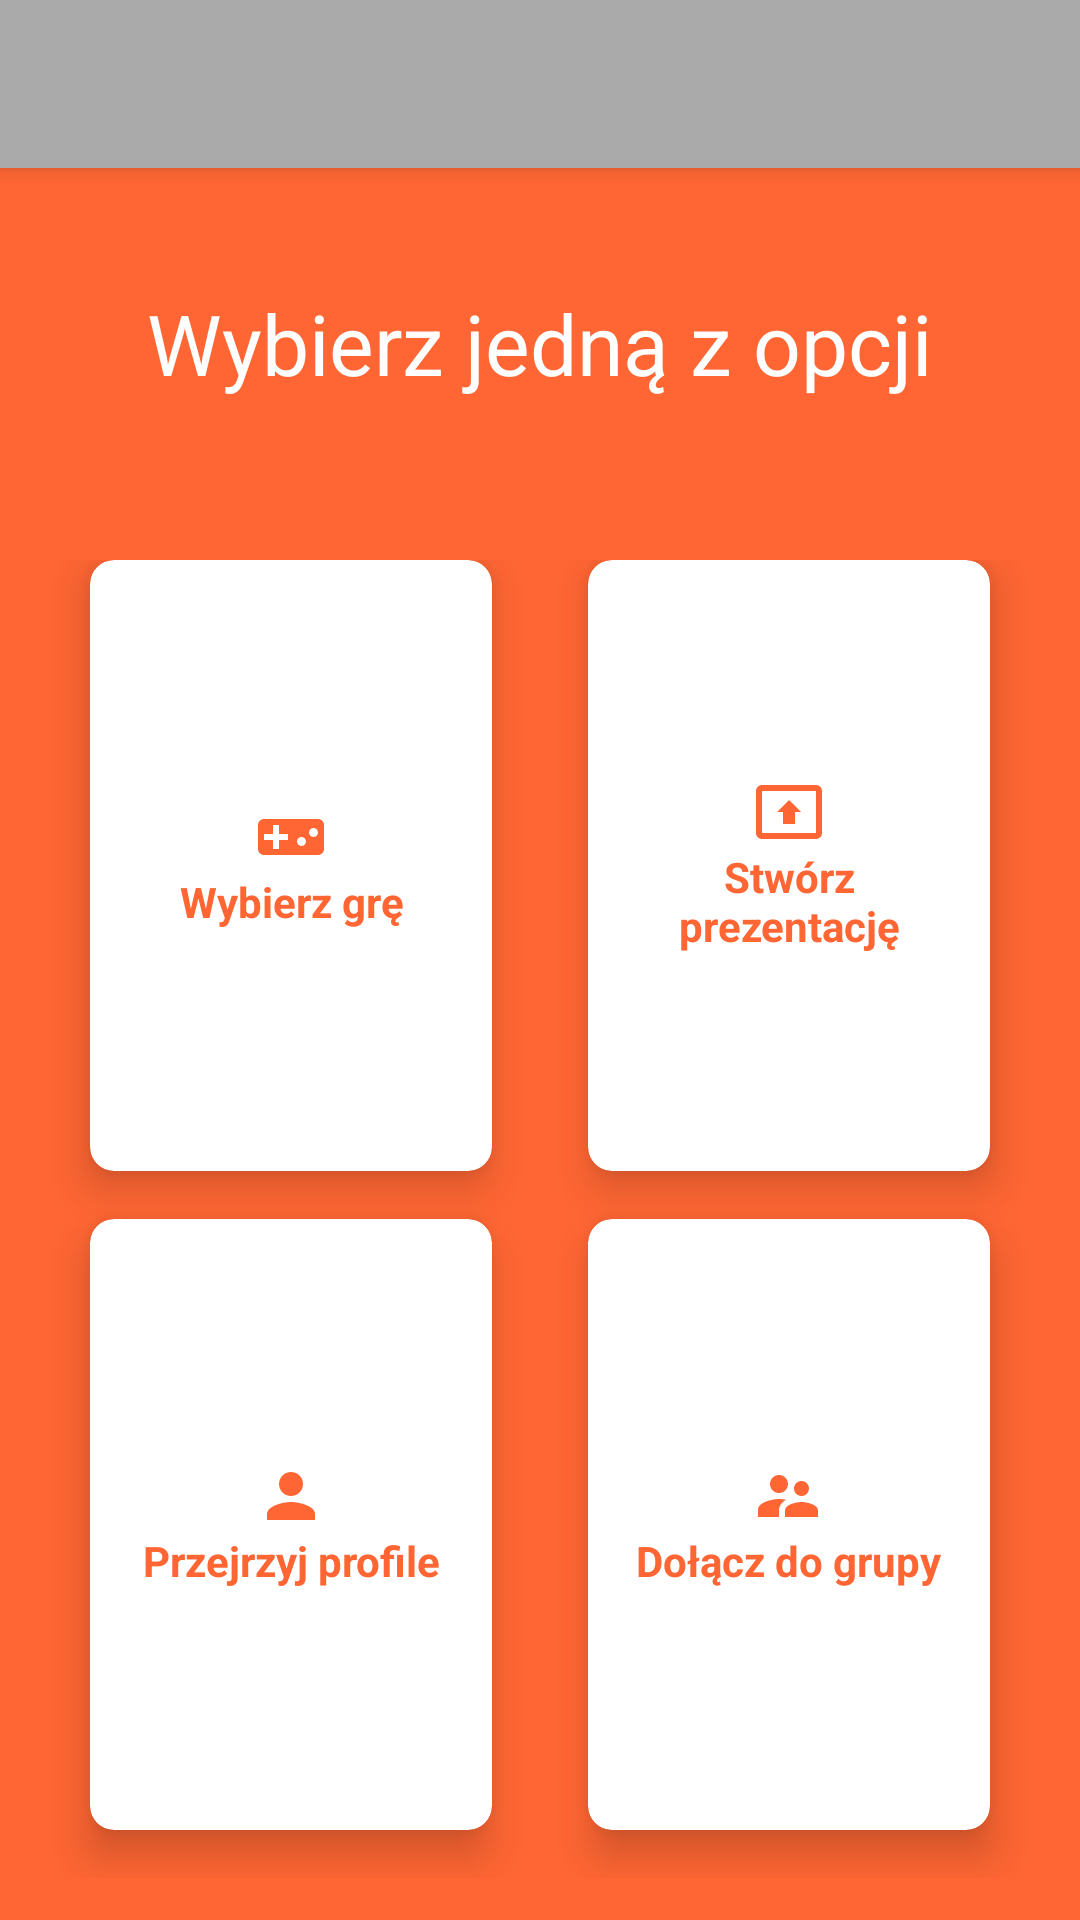

Screen size 1080px x 1920px. Icon name, then its center in pixels as (x=x, y=y):
game: (x=291, y=837)
person: (x=291, y=1496)
presentation: (x=789, y=812)
